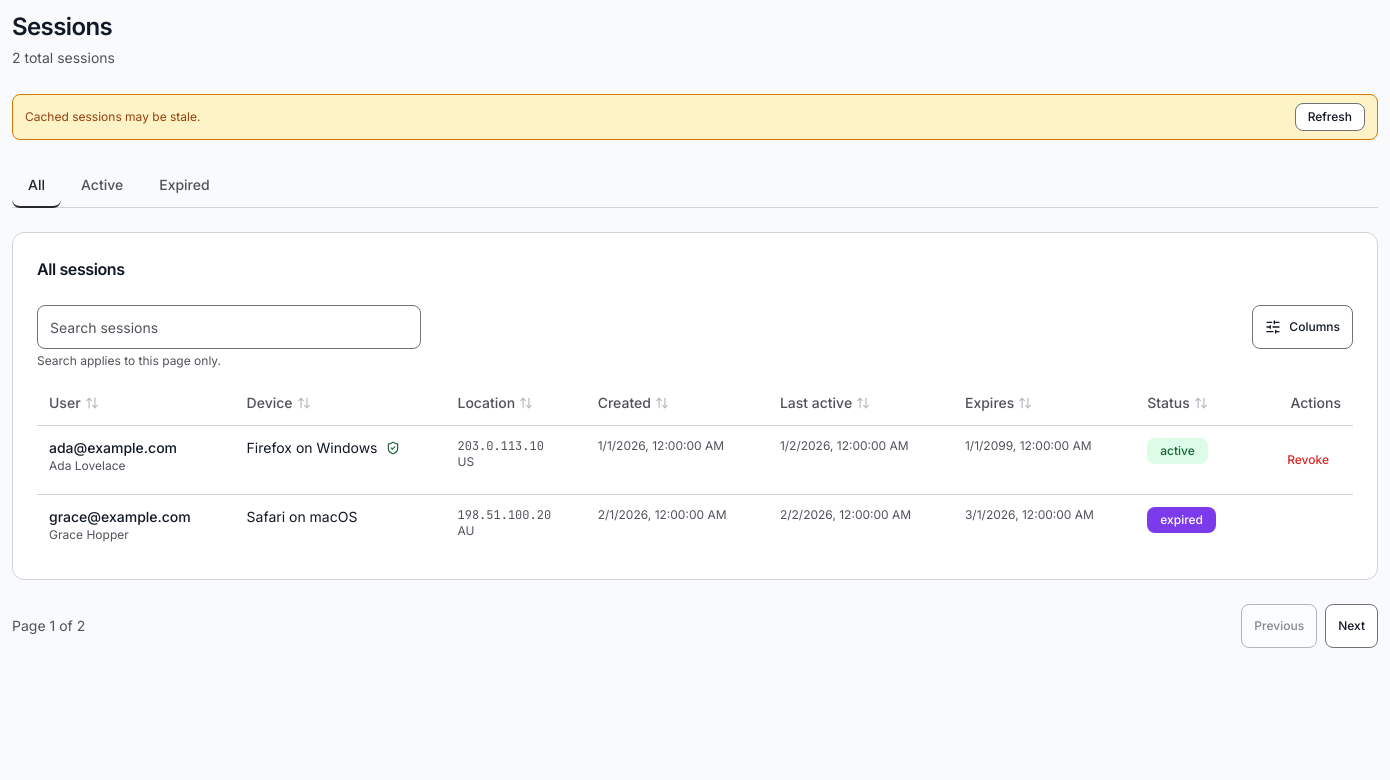
Test: Admin SessionsPage › keeps the active and expired session tabs
The width and height of the screenshot is (1390, 780).
Expected: the text "Ada Lovelace" is shown, [49,458,126,472]
What coordinates should you click on to do the following:
click the button "Expired"
I would click on:
 (184, 186)
Its box is [143,164,226,208].
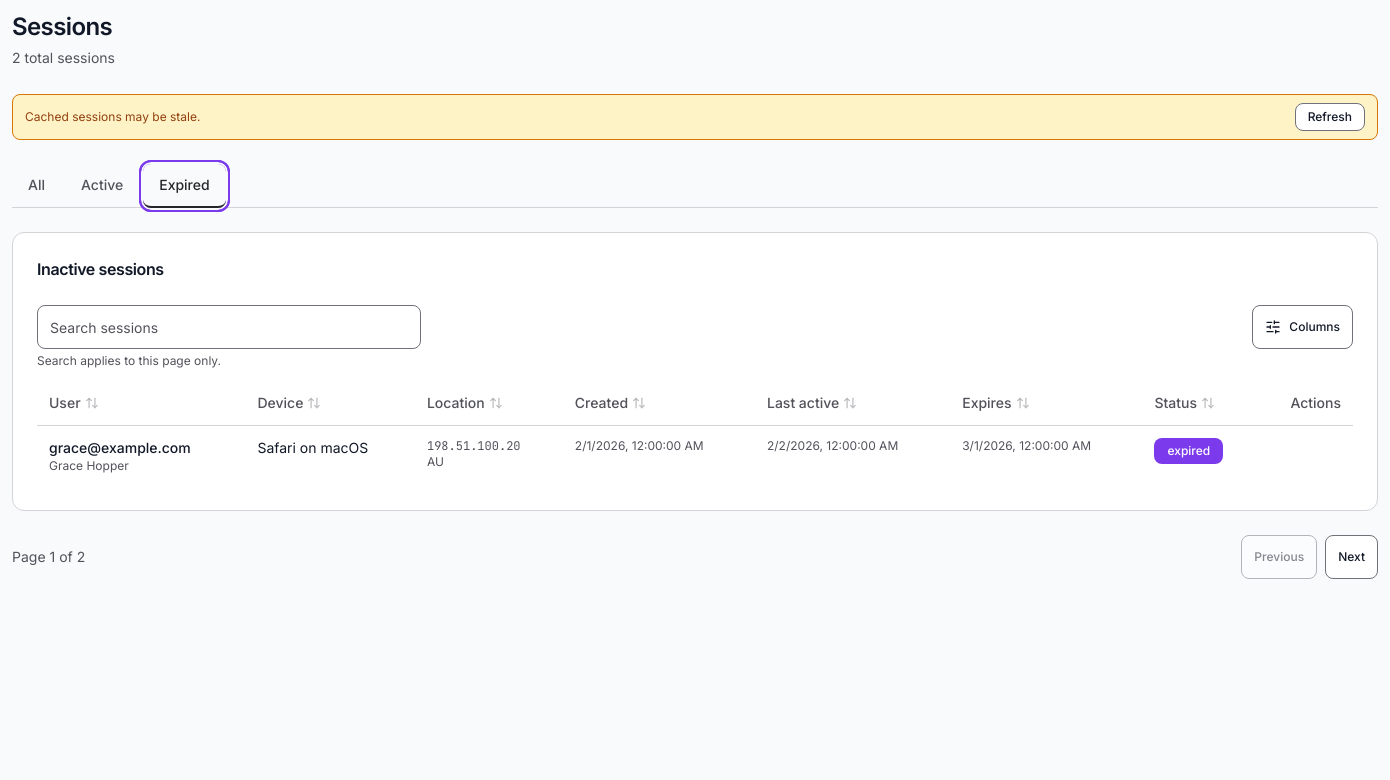
Expected: the text "Grace Hopper" is shown, [49,458,129,472]
Expected: the text "Ada Lovelace" is gone
